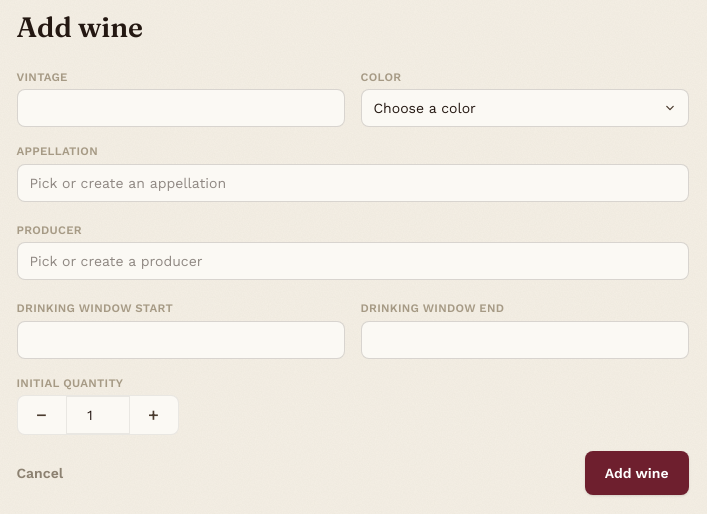
WineFormView — add › fills garde end from garde start on blur when garde end is empty
The width and height of the screenshot is (707, 514).
Type "2020" into the number field with test id "wine-garde-debut-input" at (180, 340), box [16,321,344,359]
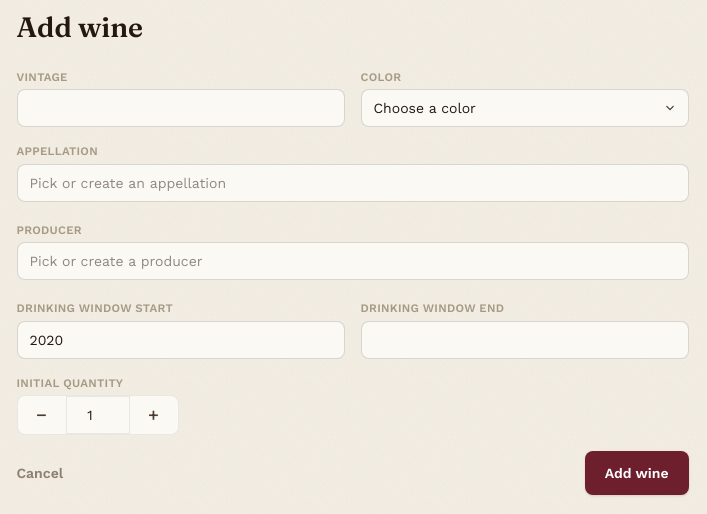
Leave the number field with test id "wine-garde-debut-input", box [16,321,344,359]
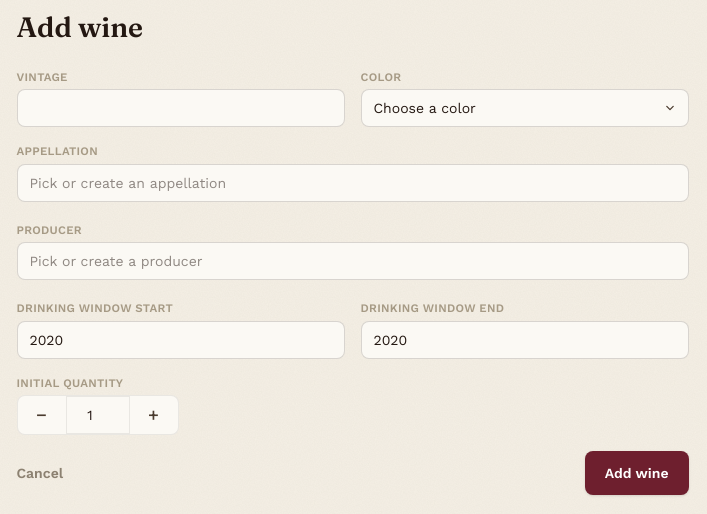
Result: the number field with test id "wine-garde-fin-input" holds "2020" at [360,321,688,359]
